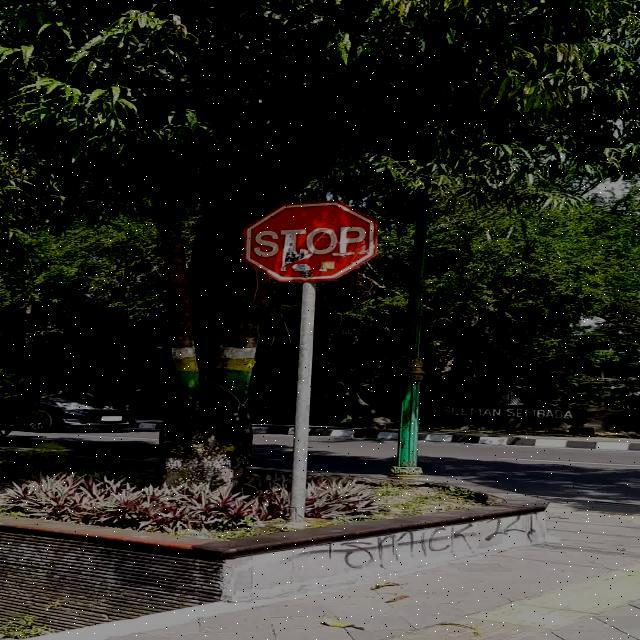Berhenti: (243, 201, 377, 281)
